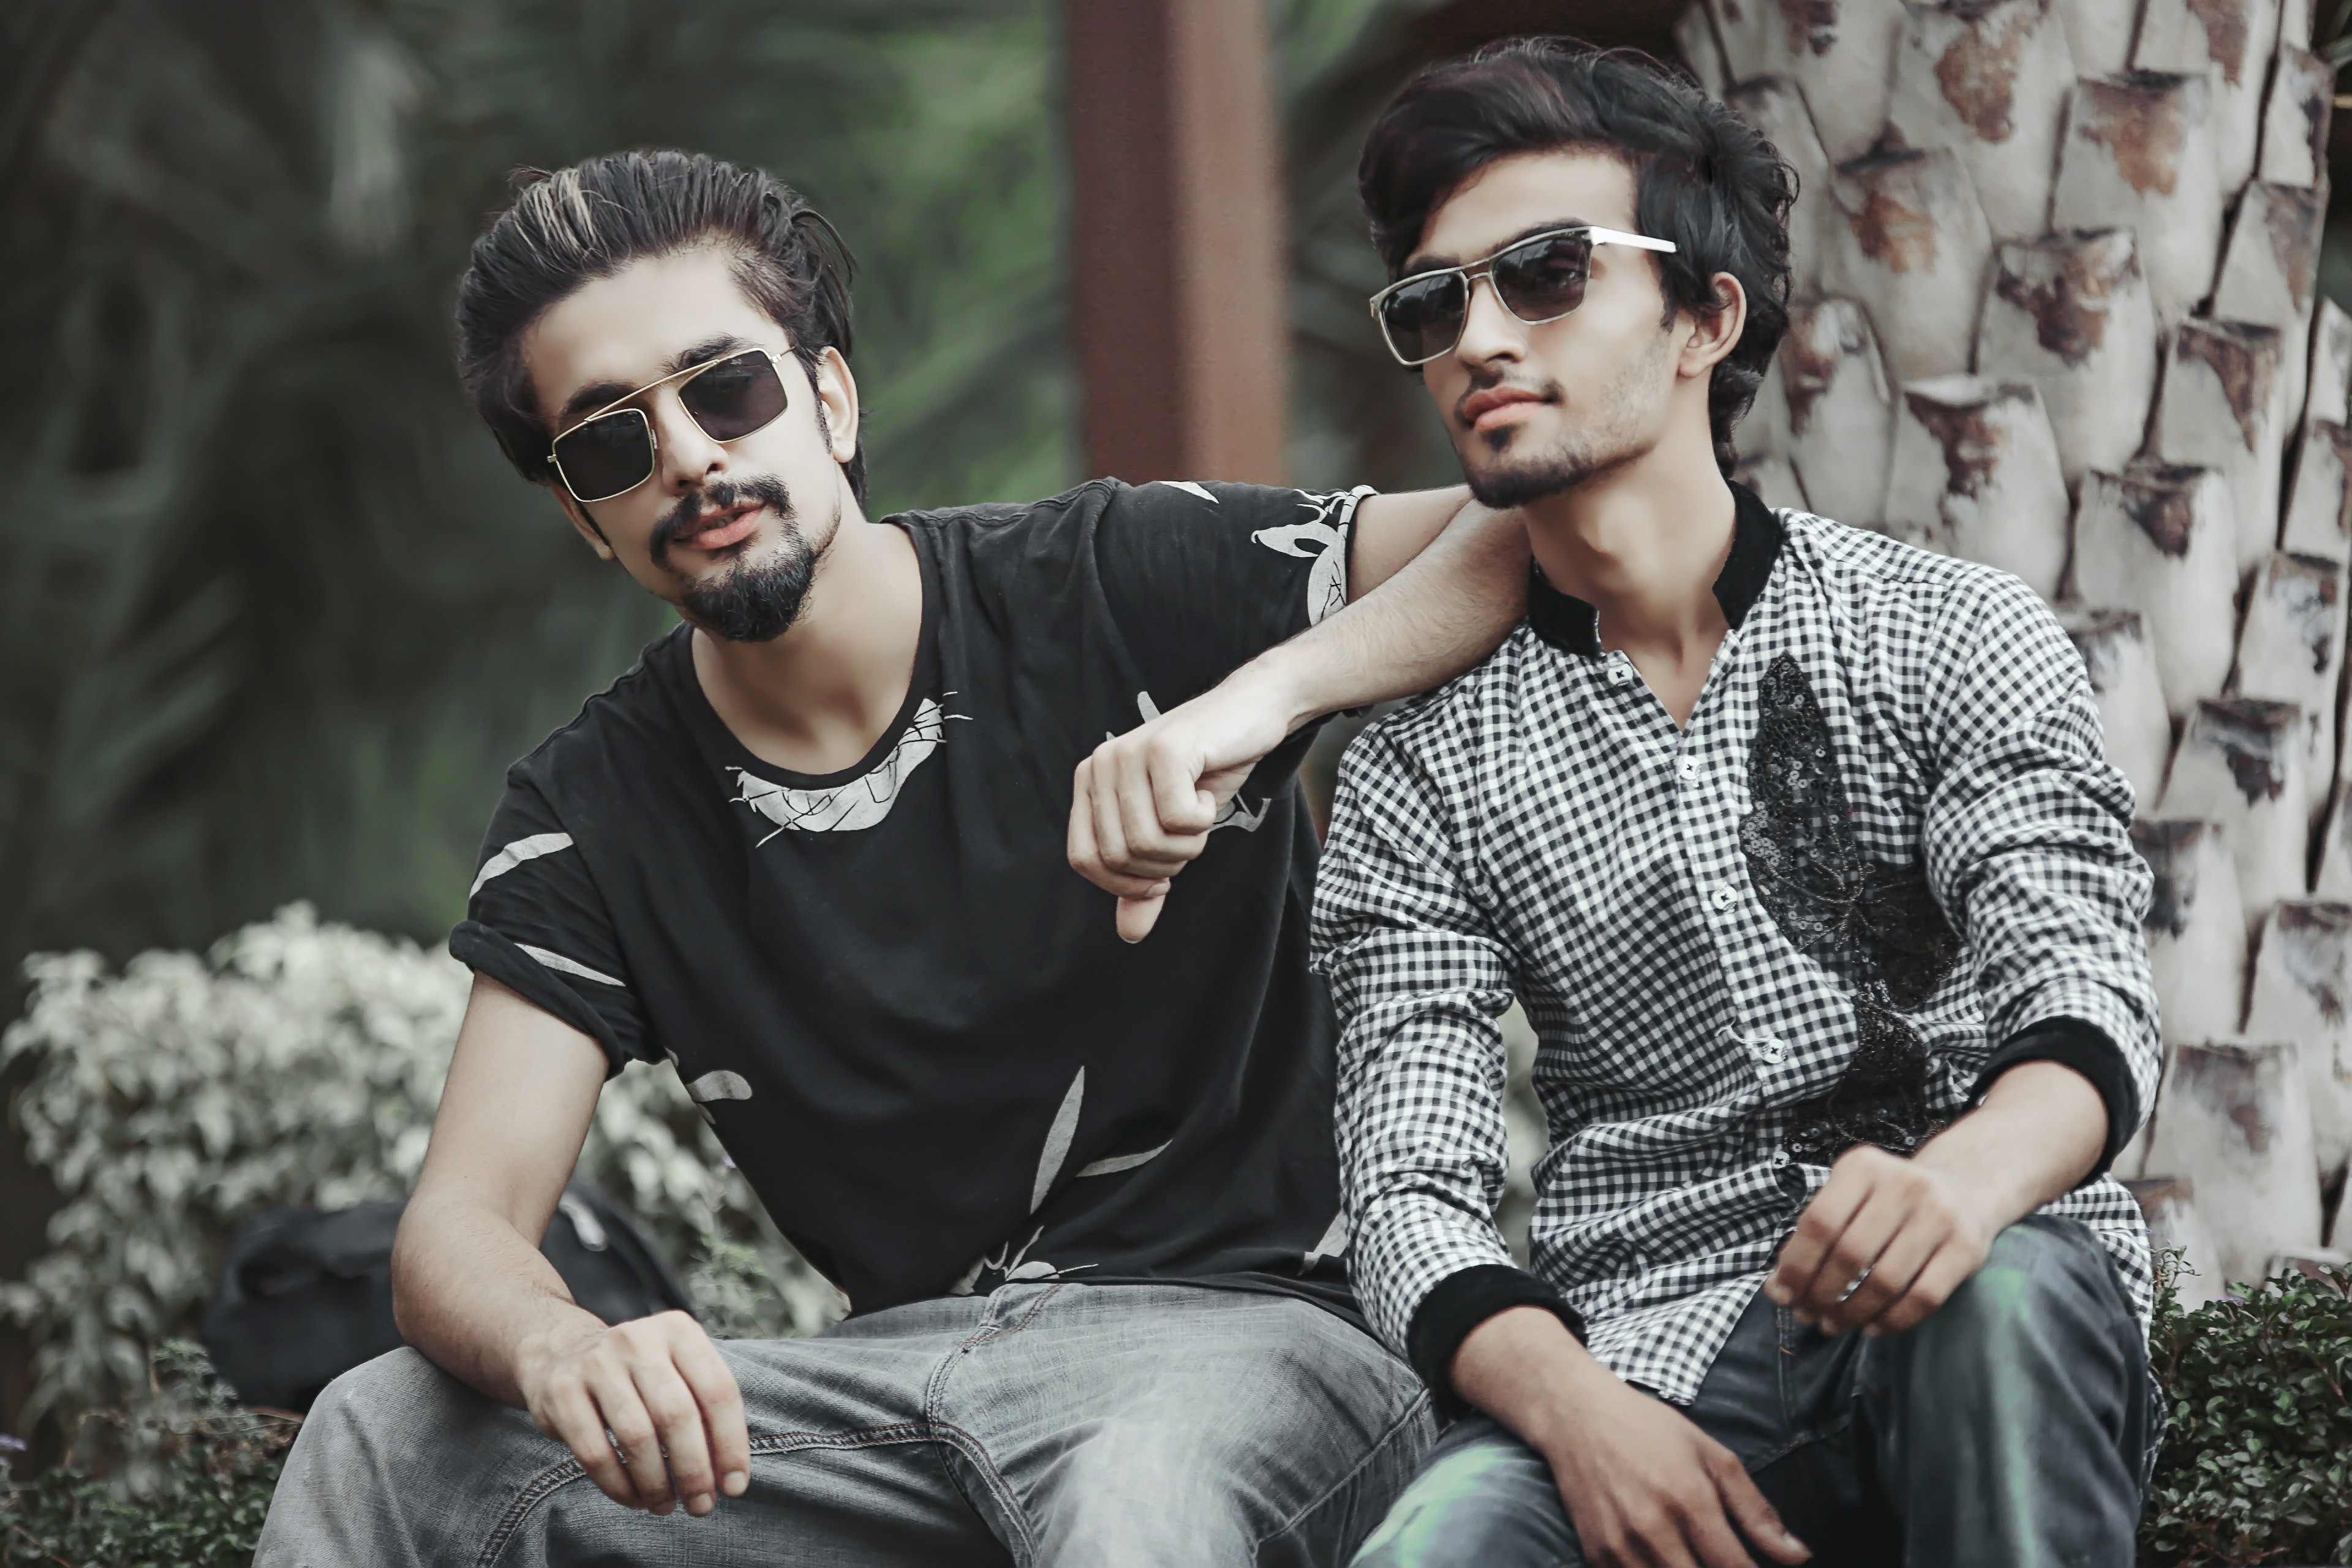face_no_mask: (475, 213, 927, 660), (1381, 116, 1758, 511)
